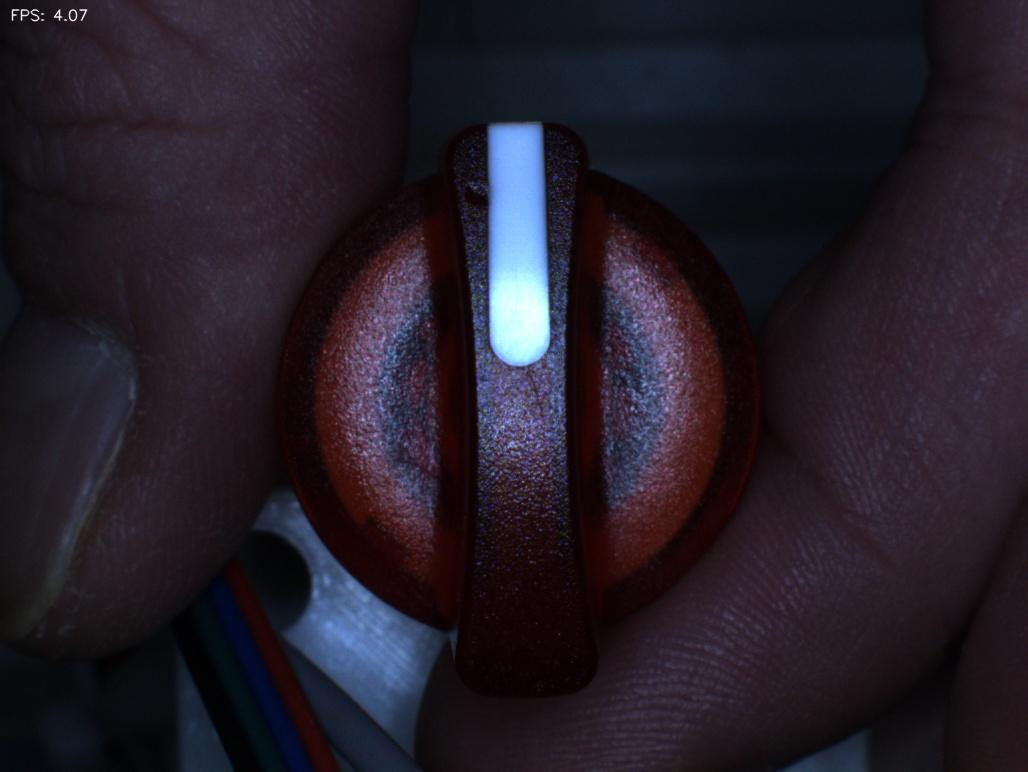Choc: (429, 149, 517, 228)
